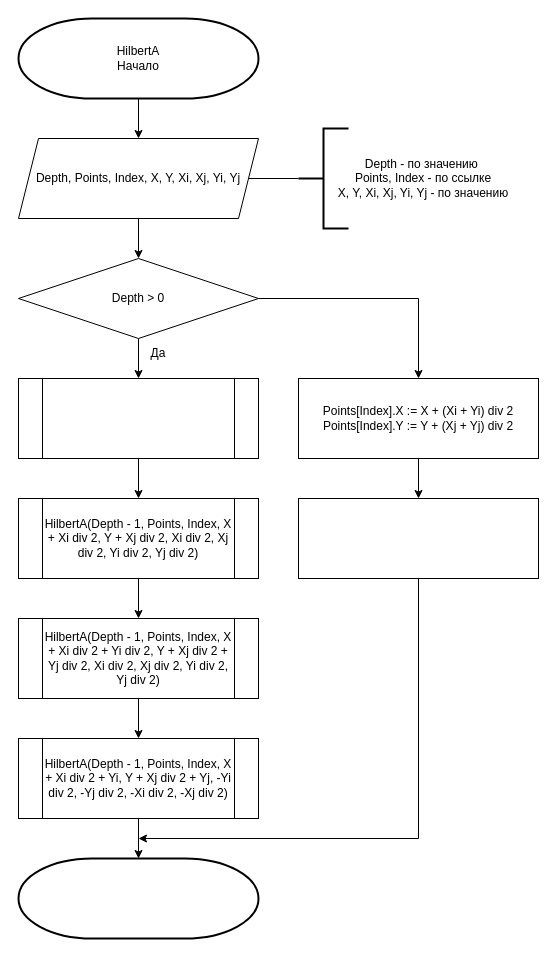
This 556x956 diagram has some shape labels left out. Here are the shapes that lost their labels. From the top down, the centre of each, then its label:
(x=138, y=418): HilbertA(Depth - 1, Points, Index, X, Y, Yi div 2, Yj div 2, Xi div 2, Xj div 2)
(x=418, y=538): Inc(Index)
(x=138, y=898): HilbertA Конец
